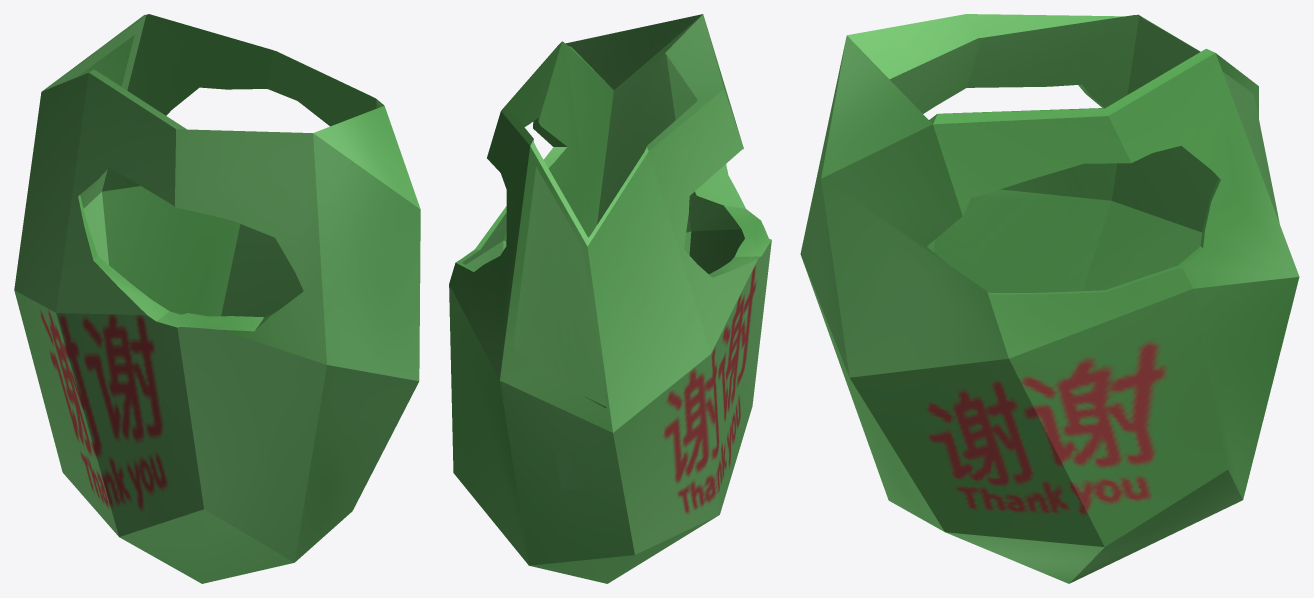
Rendered from plastic bag 1.fbx.
3 views of the same model, side by side, from view 1: azimuth 30°, elevation 25°; view 2: azimuth 150°, elevation 25°; view 3: azimuth 270°, elevation 25° (orthographic). The views are drawn at different scales.
Parts seen in each view (by area): view 1: Cube; view 2: Cube; view 3: Cube.
Part boxes in pixels (x1=…): Cube: x1=14, y1=14, x2=420, y2=583; Cube: x1=449, y1=14, x2=771, y2=583; Cube: x1=800, y1=14, x2=1299, y2=583.
Size of the model in its own units: 21.73 by 39.32 by 32.27.
